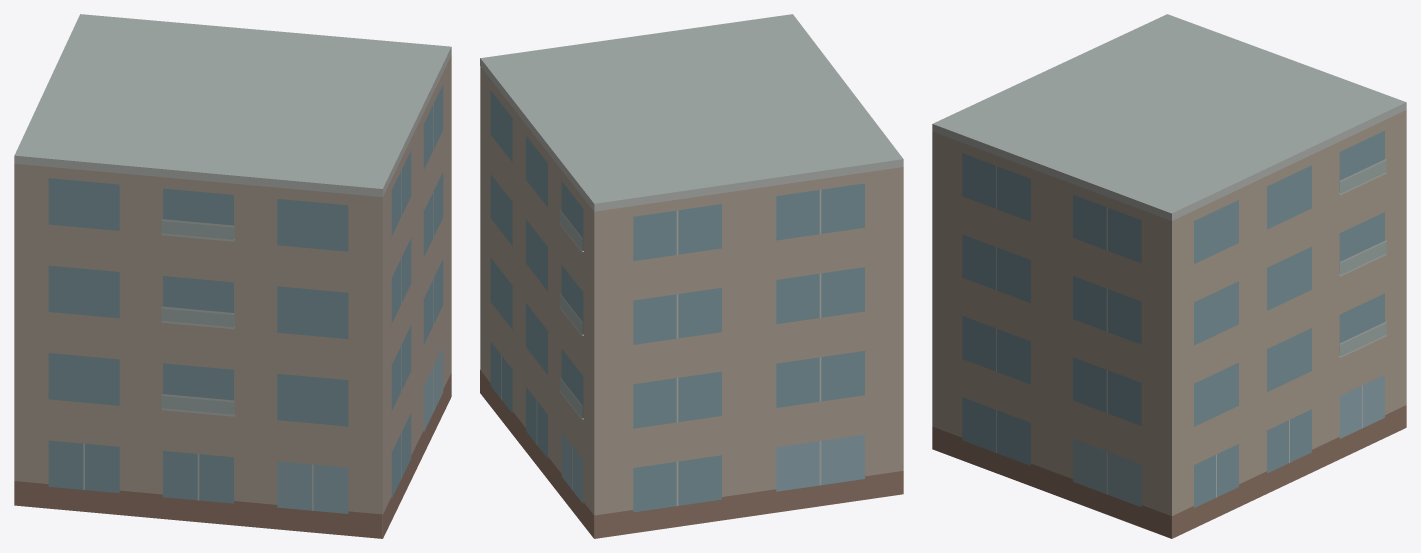
The model's file is survey-upis-32901191.glb.
3 views of the same model, side by side, from view 1: azimuth 30°, elevation 25°; view 2: azimuth 150°, elevation 25°; view 3: azimuth 270°, elevation 25° (orthographic). The views are drawn at different scales.
Parts seen in each view (by area): view 1: survey-upis-32901191.tmp; view 2: survey-upis-32901191.tmp; view 3: survey-upis-32901191.tmp.
Part boxes in pixels (box(x1,y1,x2,y2)): survey-upis-32901191.tmp: box(14, 14, 451, 538); survey-upis-32901191.tmp: box(480, 14, 903, 538); survey-upis-32901191.tmp: box(932, 14, 1406, 538).
Size of the model in its own units: 13.82 by 10.5 by 13.88.
